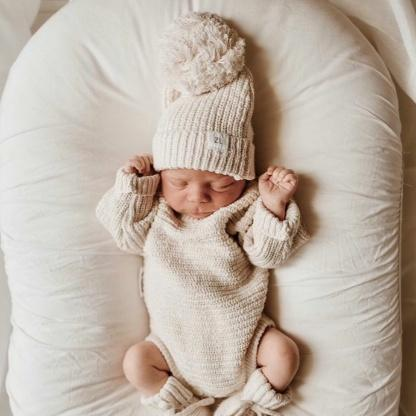baby: (95, 96, 302, 415)
